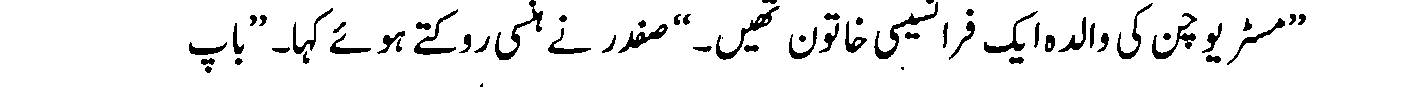bay_shosha: (231, 40, 244, 65)
